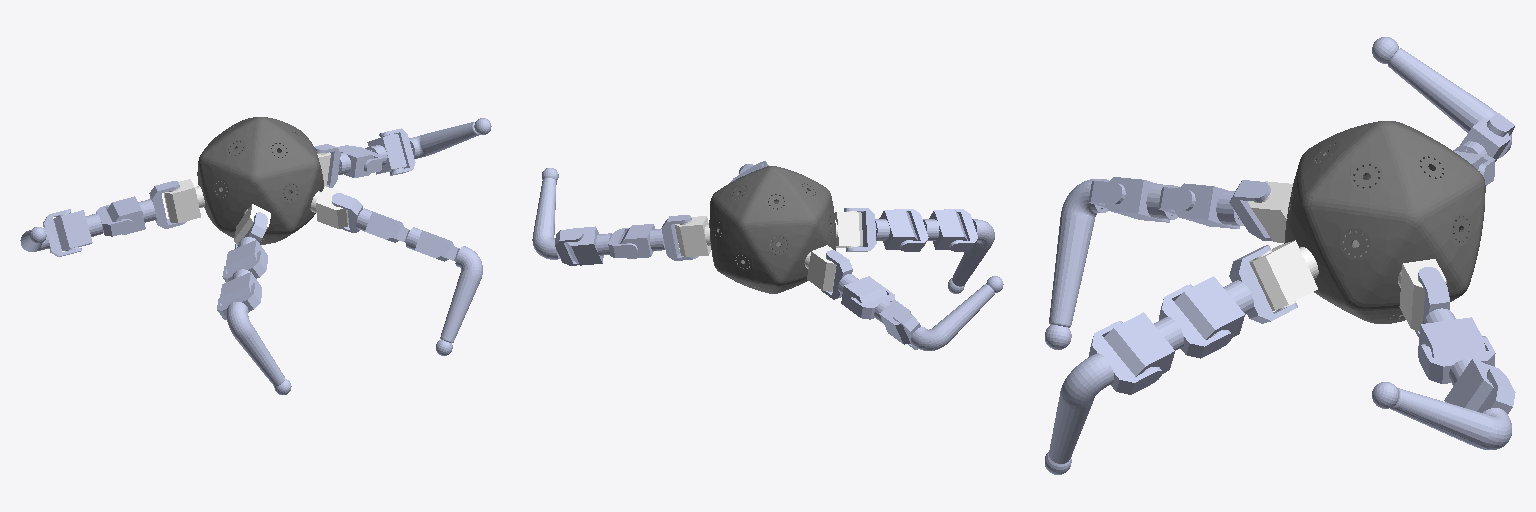
robot.urdf — mod_test:
<robot name="mod_test">
  <link name="base_link">
    <inertial>
      <origin xyz="-1.5226495220944E-06 1.5812928362389E-07 -5.05247252856584E-07" rpy="0 0 0" />
      <mass value="0" />
      <inertia ixx="0.00237499139253511" ixy="1.5717831530364E-08" ixz="1.49286265366169E-08" iyy="0.00237502154661776" iyz="-2.02154172619351E-08" izz="0.00237502595466009" />
    </inertial>
    <visual>
      <origin xyz="0 0 0" rpy="0 0 0" />
      <geometry>
        <mesh filename="package://meshes/base_link.STL" />
      </geometry>
      <material name="">
        <color rgba="0.498039215686275 0.498039215686275 0.498039215686275 0.5" />
      </material>
    </visual>
    </link>
  <link name="110">
   <inertial>
      <origin xyz="0 0 0.028508" rpy="0 0 0" />
      <mass value="0" />
      <inertia ixx="3.054E-05" ixy="-0.000000" ixz="-0.000000" iyy="2.1077E-05" iyz="-0.000000" izz="2.1165E-05" />
    </inertial>
    <visual>
      <origin xyz="0 0 0" rpy="0 0 0" />
      <geometry>
        <mesh filename="package://meshes/1.STL" />
      </geometry>
      <material name="">
        <color rgba="1 1 1 0.5" />
      </material>
    </visual>
    </link>
  <joint name="body_110" type="fixed">
    <origin xyz="0.083523 0.027138 -0.016769" rpy="1.759466 -0.000000 1.884956" />
    <parent link="base_link" />
    <child link="110" />
    <axis xyz="0 0 0" />
  </joint>
  <link name="111">
    <inertial>
      <origin xyz="0.060018 -1.4108E-06 1.4108E-06" rpy="0 0 0" />
    <mass value="0" />
      <inertia ixx="3.2684e-05" ixy="-2.5662e-09" ixz="2.5662e-09" iyy="8.4132e-05" iyz="-2.1275e-13" izz="8.4583e-05" />
    </inertial>
    <visual>
      <origin xyz="0 0 0" rpy="0 0 0" />
      <geometry>
        <mesh filename="package://meshes/module9.STL" />
      </geometry>
      <material name="">
        <color rgba="0.79216 0.81961 0.93333 0.5" />
      </material>
    </visual>
    </link>
  <joint name="110_111" type="revolute">
    <origin xyz="0 0 0.04" rpy="-1.558 -1.5708 -0.012835" />
    <parent link="110" />
    <child link="111" />
    <axis xyz="0 0 1" />
    <limit lower="-6.28" upper="6.28" effort="10" velocity="100" />
  </joint>
  <link name="112">
    <inertial>
      <origin xyz="0.060018 -1.4108E-06 1.4108E-06" rpy="0 0 0" />
    <mass value="0" />
      <inertia ixx="3.2684e-05" ixy="-2.5662e-09" ixz="2.5662e-09" iyy="8.6498e-05" iyz="4.0975e-06" izz="8.2217e-05" />
    </inertial>
    <visual>
      <origin xyz="0 0 0" rpy="0 0 0" />
      <geometry>
        <mesh filename="package://meshes/module2.STL" />
      </geometry>
      <material name="">
        <color rgba="0.79216 0.81961 0.93333 0.5" />
      </material>
    </visual>
    </link>
  <joint name="111_112" type="revolute">
    <origin xyz="0.0816 0 0" rpy="4.712389 0 0" />
    <parent link="111" />
    <child link="112" />
    <axis xyz="0 0 1" />
    <limit lower="-6.28" upper="6.28" effort="10" velocity="100" />
  </joint>
  <link name="113">
    <inertial>
      <origin xyz="0.051733 -0.042281 -1.3878E-17" rpy="0 0 0" />
    <mass value="0" />
      <inertia ixx="0.00025425" ixy="4.8319E-05" ixz="0" iyy="5.0194E-05" iyz="-3.3141E-21" izz="0.00027482" />
    </inertial>
    <visual>
      <origin xyz="0 0 0" rpy="0 0 0" />
      <geometry>
        <mesh filename="package://meshes/leg.STL" />
      </geometry>
      <material name="">
        <color rgba="0.79216 0.81961 0.93333 0.5" />
      </material>
    </visual>
    </link>
  <joint name="112_113" type="revolute">
    <origin xyz="0.0816 0 0" rpy="1.047198 0 0" />
    <parent link="112" />
    <child link="113" />
    <axis xyz="0 0 1" />
    <limit lower="-6.28" upper="6.28" effort="10" velocity="100" />
  </joint>
  <link name="100">
   <inertial>
      <origin xyz="0 0 0.028508" rpy="0 0 0" />
      <mass value="0" />
      <inertia ixx="3.054E-05" ixy="0.000000" ixz="-0.000000" iyy="2.1077E-05" iyz="0.000021" izz="2.1165E-05" />
    </inertial>
    <visual>
      <origin xyz="0 0 0" rpy="0 0 0" />
      <geometry>
        <mesh filename="package://meshes/1.STL" />
      </geometry>
      <material name="">
        <color rgba="1 1 1 0.5" />
      </material>
    </visual>
    </link>
  <joint name="body_100" type="fixed">
    <origin xyz="0.051620 -0.071049 -0.016769" rpy="1.787804 -0.513383 0.520455" />
    <parent link="base_link" />
    <child link="100" />
    <axis xyz="0 0 0" />
  </joint>
  <link name="101">
    <inertial>
      <origin xyz="0.060018 -1.4108E-06 1.4108E-06" rpy="0 0 0" />
    <mass value="0" />
      <inertia ixx="3.2684e-05" ixy="-2.5662e-09" ixz="2.5662e-09" iyy="9.1229e-05" iyz="4.0975e-06" izz="7.7485e-05" />
    </inertial>
    <visual>
      <origin xyz="0 0 0" rpy="0 0 0" />
      <geometry>
        <mesh filename="package://meshes/module7.STL" />
      </geometry>
      <material name="">
        <color rgba="0.79216 0.81961 0.93333 0.5" />
      </material>
    </visual>
    </link>
  <joint name="100_101" type="revolute">
    <origin xyz="0 0 0.04" rpy="-1.558 -1.5708 -0.012835" />
    <parent link="100" />
    <child link="101" />
    <axis xyz="0 0 1" />
    <limit lower="-6.28" upper="6.28" effort="10" velocity="100" />
  </joint>
  <link name="102">
    <inertial>
      <origin xyz="0.060018 -1.4108E-06 1.4108E-06" rpy="0 0 0" />
    <mass value="0" />
      <inertia ixx="3.2684e-05" ixy="-2.5662e-09" ixz="2.5662e-09" iyy="9.3595e-05" iyz="-2.1275e-13" izz="7.512e-05" />
    </inertial>
    <visual>
      <origin xyz="0 0 0" rpy="0 0 0" />
      <geometry>
        <mesh filename="package://meshes/module6.STL" />
      </geometry>
      <material name="">
        <color rgba="0.79216 0.81961 0.93333 0.5" />
      </material>
    </visual>
    </link>
  <joint name="101_102" type="revolute">
    <origin xyz="0.0816 0 0" rpy="3.665191 0 0" />
    <parent link="101" />
    <child link="102" />
    <axis xyz="0 0 1" />
    <limit lower="-6.28" upper="6.28" effort="10" velocity="100" />
  </joint>
  <link name="103">
    <inertial>
      <origin xyz="0.051733 -0.042281 -1.3878E-17" rpy="0 0 0" />
    <mass value="0" />
      <inertia ixx="0.00025425" ixy="4.8319E-05" ixz="0" iyy="5.0194E-05" iyz="-3.3141E-21" izz="0.00027482" />
    </inertial>
    <visual>
      <origin xyz="0 0 0" rpy="0 0 0" />
      <geometry>
        <mesh filename="package://meshes/leg.STL" />
      </geometry>
      <material name="">
        <color rgba="0.79216 0.81961 0.93333 0.5" />
      </material>
    </visual>
    </link>
  <joint name="102_103" type="revolute">
    <origin xyz="0.0816 0 0" rpy="3.141593 0 0" />
    <parent link="102" />
    <child link="103" />
    <axis xyz="0 0 1" />
    <limit lower="-6.28" upper="6.28" effort="10" velocity="100" />
  </joint>
  <link name="140">
   <inertial>
      <origin xyz="0 0 0.028508" rpy="0 0 0" />
      <mass value="0" />
      <inertia ixx="3.054E-05" ixy="0.000000" ixz="-0.000000" iyy="2.1077E-05" iyz="-0.000000" izz="2.1165E-05" />
    </inertial>
    <visual>
      <origin xyz="0 0 0" rpy="0 0 0" />
      <geometry>
        <mesh filename="package://meshes/1.STL" />
      </geometry>
      <material name="">
        <color rgba="1 1 1 0.5" />
      </material>
    </visual>
    </link>
  <joint name="body_140" type="fixed">
    <origin xyz="-0.051620 -0.071049 -0.016769" rpy="-1.787804 -0.513383 2.621137" />
    <parent link="base_link" />
    <child link="140" />
    <axis xyz="0 0 0" />
  </joint>
  <link name="141">
    <inertial>
      <origin xyz="0.060018 -1.4108E-06 1.4108E-06" rpy="0 0 0" />
    <mass value="0" />
      <inertia ixx="3.2684e-05" ixy="-2.5662e-09" ixz="2.5662e-09" iyy="9.1229e-05" iyz="-4.0975e-06" izz="7.7485e-05" />
    </inertial>
    <visual>
      <origin xyz="0 0 0" rpy="0 0 0" />
      <geometry>
        <mesh filename="package://meshes/module5.STL" />
      </geometry>
      <material name="">
        <color rgba="0.79216 0.81961 0.93333 0.5" />
      </material>
    </visual>
    </link>
  <joint name="140_141" type="revolute">
    <origin xyz="0 0 0.04" rpy="-1.558 -1.5708 -0.012835" />
    <parent link="140" />
    <child link="141" />
    <axis xyz="0 0 1" />
    <limit lower="-6.28" upper="6.28" effort="10" velocity="100" />
  </joint>
  <link name="142">
    <inertial>
      <origin xyz="0.060018 -1.4108E-06 1.4108E-06" rpy="0 0 0" />
    <mass value="0" />
      <inertia ixx="3.2684e-05" ixy="-2.5662e-09" ixz="2.5662e-09" iyy="9.3595e-05" iyz="-2.1275e-13" izz="7.512e-05" />
    </inertial>
    <visual>
      <origin xyz="0 0 0" rpy="0 0 0" />
      <geometry>
        <mesh filename="package://meshes/module6.STL" />
      </geometry>
      <material name="">
        <color rgba="0.79216 0.81961 0.93333 0.5" />
      </material>
    </visual>
    </link>
  <joint name="141_142" type="revolute">
    <origin xyz="0.0816 0 0" rpy="2.617994 0 0" />
    <parent link="141" />
    <child link="142" />
    <axis xyz="0 0 1" />
    <limit lower="-6.28" upper="6.28" effort="10" velocity="100" />
  </joint>
  <link name="143">
    <inertial>
      <origin xyz="0.051733 -0.042281 -1.3878E-17" rpy="0 0 0" />
    <mass value="0" />
      <inertia ixx="0.00025425" ixy="4.8319E-05" ixz="0" iyy="5.0194E-05" iyz="-3.3141E-21" izz="0.00027482" />
    </inertial>
    <visual>
      <origin xyz="0 0 0" rpy="0 0 0" />
      <geometry>
        <mesh filename="package://meshes/leg.STL" />
      </geometry>
      <material name="">
        <color rgba="0.79216 0.81961 0.93333 0.5" />
      </material>
    </visual>
    </link>
  <joint name="142_143" type="revolute">
    <origin xyz="0.0816 0 0" rpy="3.141593 0 0" />
    <parent link="142" />
    <child link="143" />
    <axis xyz="0 0 1" />
    <limit lower="-6.28" upper="6.28" effort="10" velocity="100" />
  </joint>
  <link name="130">
   <inertial>
      <origin xyz="0 0 0.028508" rpy="0 0 0" />
      <mass value="0" />
      <inertia ixx="3.054E-05" ixy="-0.000000" ixz="-0.000000" iyy="2.1077E-05" iyz="0.000000" izz="2.1165E-05" />
    </inertial>
    <visual>
      <origin xyz="0 0 0" rpy="0 0 0" />
      <geometry>
        <mesh filename="package://meshes/1.STL" />
      </geometry>
      <material name="">
        <color rgba="1 1 1 0.5" />
      </material>
    </visual>
    </link>
  <joint name="body_130" type="fixed">
    <origin xyz="-0.083523 0.027138 -0.016769" rpy="-1.759466 -0.000000 1.256637" />
    <parent link="base_link" />
    <child link="130" />
    <axis xyz="0 0 0" />
  </joint>
  <link name="131">
    <inertial>
      <origin xyz="0.060018 -1.4108E-06 1.4108E-06" rpy="0 0 0" />
    <mass value="0" />
      <inertia ixx="3.2684e-05" ixy="-2.5662e-09" ixz="2.5662e-09" iyy="8.4132e-05" iyz="-2.1275e-13" izz="8.4583e-05" />
    </inertial>
    <visual>
      <origin xyz="0 0 0" rpy="0 0 0" />
      <geometry>
        <mesh filename="package://meshes/module3.STL" />
      </geometry>
      <material name="">
        <color rgba="0.79216 0.81961 0.93333 0.5" />
      </material>
    </visual>
    </link>
  <joint name="130_131" type="revolute">
    <origin xyz="0 0 0.04" rpy="-1.558 -1.5708 -0.012835" />
    <parent link="130" />
    <child link="131" />
    <axis xyz="0 0 1" />
    <limit lower="-6.28" upper="6.28" effort="10" velocity="100" />
  </joint>
  <link name="132">
    <inertial>
      <origin xyz="0.060018 -1.4108E-06 1.4108E-06" rpy="0 0 0" />
    <mass value="0" />
      <inertia ixx="3.2684e-05" ixy="-2.5662e-09" ixz="2.5662e-09" iyy="8.6498e-05" iyz="-4.0975e-06" izz="8.2217e-05" />
    </inertial>
    <visual>
      <origin xyz="0 0 0" rpy="0 0 0" />
      <geometry>
        <mesh filename="package://meshes/module10.STL" />
      </geometry>
      <material name="">
        <color rgba="0.79216 0.81961 0.93333 0.5" />
      </material>
    </visual>
    </link>
  <joint name="131_132" type="revolute">
    <origin xyz="0.0816 0 0" rpy="1.570796 0 0" />
    <parent link="131" />
    <child link="132" />
    <axis xyz="0 0 1" />
    <limit lower="-6.28" upper="6.28" effort="10" velocity="100" />
  </joint>
  <link name="133">
    <inertial>
      <origin xyz="0.051733 -0.042281 -1.3878E-17" rpy="0 0 0" />
    <mass value="0" />
      <inertia ixx="0.00025425" ixy="4.8319E-05" ixz="0" iyy="5.0194E-05" iyz="-3.3141E-21" izz="0.00027482" />
    </inertial>
    <visual>
      <origin xyz="0 0 0" rpy="0 0 0" />
      <geometry>
        <mesh filename="package://meshes/leg.STL" />
      </geometry>
      <material name="">
        <color rgba="0.79216 0.81961 0.93333 0.5" />
      </material>
    </visual>
    </link>
  <joint name="132_133" type="revolute">
    <origin xyz="0.0816 0 0" rpy="5.235988 0 0" />
    <parent link="132" />
    <child link="133" />
    <axis xyz="0 0 1" />
    <limit lower="-6.28" upper="6.28" effort="10" velocity="100" />
  </joint>
  <link name="ball_1">
    <inertial>
    <origin xyz="0 0 0" rpy="0 0 0" />
    <mass value="0" />
      <inertia ixx="0" ixy="0" ixz="0" iyy="0" iyz="0" izz="0" />
    </inertial>    <visual>
      <origin xyz="0 0 0" rpy="0 0 0" />
     <geometry>
        <sphere radius="0.01" />
      </geometry>
      <material name="green">
        <color rgba="0.22 1 0.4 0.5" />
      </material>
    </visual>
  </link>
  <joint name="113_ball1" type="fixed">
    <origin xyz="0.0612 -0.13431 0" rpy="0 0 0" />
    <parent link="113" />
    <child link="ball_1" />
    <axis xyz="0 0 0" />
  </joint>
  <link name="ball_2">
    <inertial>
    <origin xyz="0 0 0" rpy="0 0 0" />
    <mass value="0" />
      <inertia ixx="0" ixy="0" ixz="0" iyy="0" iyz="0" izz="0" />
    </inertial>    <visual>
      <origin xyz="0 0 0" rpy="0 0 0" />
      <geometry>
        <sphere radius="0.01" />
      </geometry>
      <material name="blue">
        <color rgba="0.16 0.52 0.8 0.5" />
      </material>
    </visual>
  </link>
  <joint name="103_ball2" type="fixed">
    <origin xyz="0.0612 -0.13431 0" rpy="0 0 0" />
    <parent link="103" />
    <child link="ball_2" />
    <axis xyz="0 0 0" />
  </joint>
  <link name="ball_3">
    <inertial>
    <origin xyz="0 0 0" rpy="0 0 0" />
    <mass value="0" />
      <inertia ixx="0" ixy="0" ixz="0" iyy="0" iyz="0" izz="0" />
    </inertial>    <visual>
      <origin xyz="0 0 0" rpy="0 0 0" />
     <geometry>
        <sphere radius="0.01" />
      </geometry>
      <material name="blue">
        <color rgba="0.16 0.52 0.8 0.5" />
      </material>
    </visual>
  </link>
  <joint name="143_ball3" type="fixed">
    <origin xyz="0.0612 -0.13431 0" rpy="0 0 0" />
    <parent link="143" />
    <child link="ball_3" />
    <axis xyz="0 0 0" />
  </joint>
  <link name="ball_4">
    <inertial>
    <origin xyz="0 0 0" rpy="0 0 0" />
    <mass value="0" />
      <inertia ixx="0" ixy="0" ixz="0" iyy="0" iyz="0" izz="0" />
    </inertial>    <visual>
      <origin xyz="0 0 0" rpy="0 0 0" />
      <geometry>
        <sphere radius="0.01" />
      </geometry>
      <material name="yellow">
        <color rgba="1 1 0 0.5" />
      </material>
    </visual>
  </link>
  <joint name="133_ball4" type="fixed">
    <origin xyz="0.0612 -0.13431 0" rpy="0 0 0" />
    <parent link="133" />
    <child link="ball_4" />
    <axis xyz="0 0 0" />
  </joint>
</robot>

--- Facts derived from the render (not from the file) ---
3 views of the same robot in one strip: view 1: azimuth 30°, elevation 25°; view 2: azimuth 150°, elevation 25°; view 3: azimuth 270°, elevation 25° (orthographic).
Robot: mod_test — 21 links, 20 joints (12 revolute, 8 fixed); root link base_link; default pose: all joints at 0.
Links seen in each view (by area): view 1: base_link, 103, 143, 113, 132, 131, 111, 112, 130, 142, 101, 141 (+4 smaller); view 2: base_link, 133, 113, 143, 141, 142, 111, 112, 131, 132, 110, 130 (+1 smaller); view 3: base_link, 143, 103, 113, 102, 101, 133, 111, 141, 100, 112, 142 (+3 smaller).
Boxes of the visible links, x1,y1,x2,y2 form: base_link: [197, 117, 323, 244]; 103: [427, 239, 482, 355]; 143: [217, 282, 291, 394]; 113: [379, 118, 491, 175]; 132: [53, 204, 133, 250]; 131: [107, 181, 186, 234]; 111: [314, 144, 374, 187]; 112: [351, 134, 406, 174]; 130: [164, 179, 204, 222]; 142: [220, 250, 267, 304]; 101: [332, 193, 404, 242]; 141: [226, 212, 267, 272]; base_link: [709, 166, 835, 293]; 133: [891, 276, 1003, 350]; 113: [532, 168, 583, 265]; 143: [944, 209, 994, 293]; 141: [844, 208, 917, 251]; 142: [894, 209, 967, 251]; 111: [620, 215, 698, 260]; 112: [566, 226, 637, 265]; 131: [821, 250, 886, 307]; 132: [846, 288, 911, 344]; 110: [675, 216, 710, 256]; 130: [804, 245, 836, 291]; base_link: [1284, 121, 1485, 323]; 143: [1045, 179, 1125, 349]; 103: [1045, 321, 1162, 474]; 113: [1372, 367, 1515, 449]; 102: [1104, 284, 1232, 376]; 101: [1174, 245, 1297, 339]; 133: [1372, 37, 1514, 158]; 111: [1415, 267, 1485, 357]; 141: [1174, 180, 1271, 240]; 100: [1249, 240, 1318, 310]; 112: [1418, 336, 1500, 410]; 142: [1105, 177, 1195, 222].
Bounding box of the posed robot: 0.7821 × 0.4367 × 0.2956 m (x, y, z).
Meshes: 10 distinct files referenced, 17 mesh visuals loaded (10 binary STL).